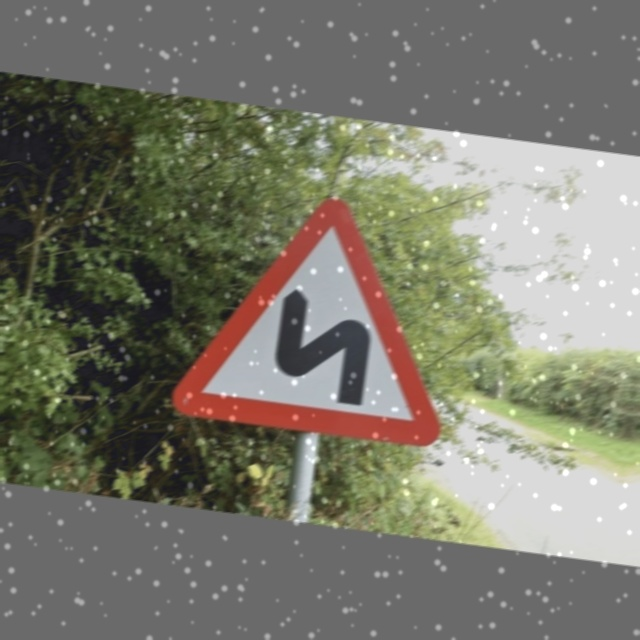Left_Reverse_Bend: (173, 180, 471, 454)
